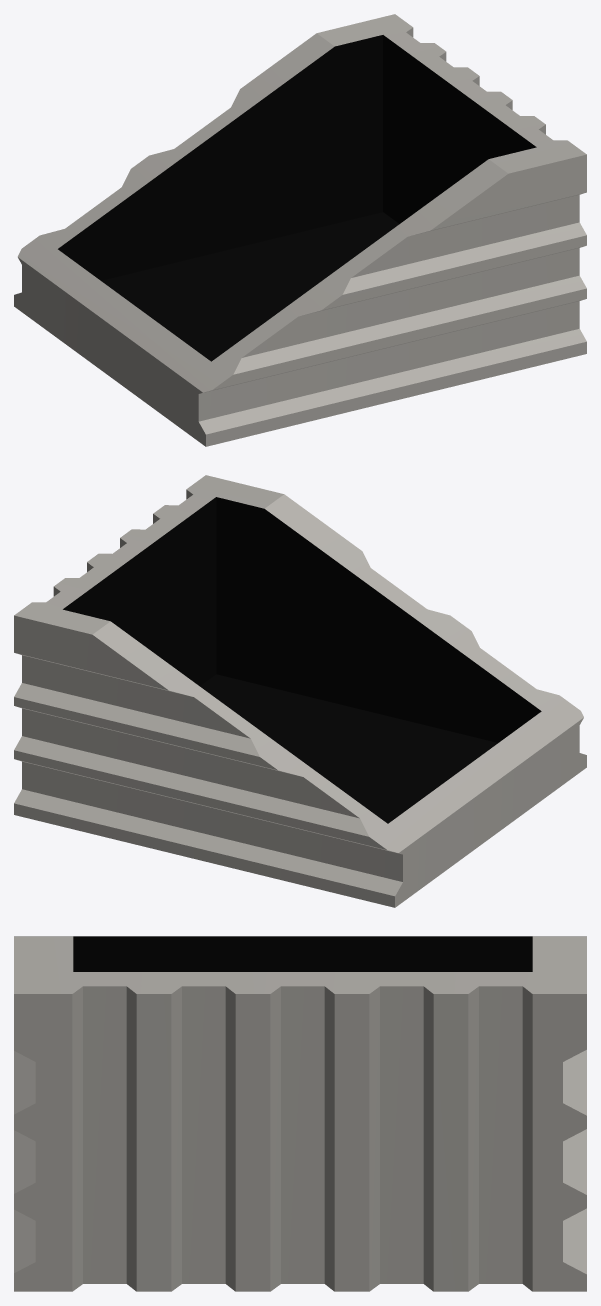
File: storing_mech.obj
3 views of the same model, one above another, from view 1: azimuth 30°, elevation 25°; view 2: azimuth 150°, elevation 25°; view 3: azimuth 270°, elevation 25° (orthographic). The views are drawn at different scales.
Parts seen in each view (by area): view 1: mesh 1 storing_mech, mesh 2 Cut-Extrude7; view 2: mesh 1 storing_mech, mesh 2 Cut-Extrude7; view 3: mesh 1 storing_mech, mesh 2 Cut-Extrude7.
Part boxes in pixels (bbox=[...]): mesh 1 storing_mech: bbox=[14, 14, 586, 446]; mesh 2 Cut-Extrude7: bbox=[58, 35, 536, 361]; mesh 1 storing_mech: bbox=[14, 475, 586, 907]; mesh 2 Cut-Extrude7: bbox=[63, 497, 541, 823]; mesh 1 storing_mech: bbox=[14, 936, 586, 1291]; mesh 2 Cut-Extrude7: bbox=[73, 936, 532, 971].
Bounding box in the file's own units: 9e-05 × 4.5e-05 × 7.85e-05.
Materials: 2 (2 with a texture image).
